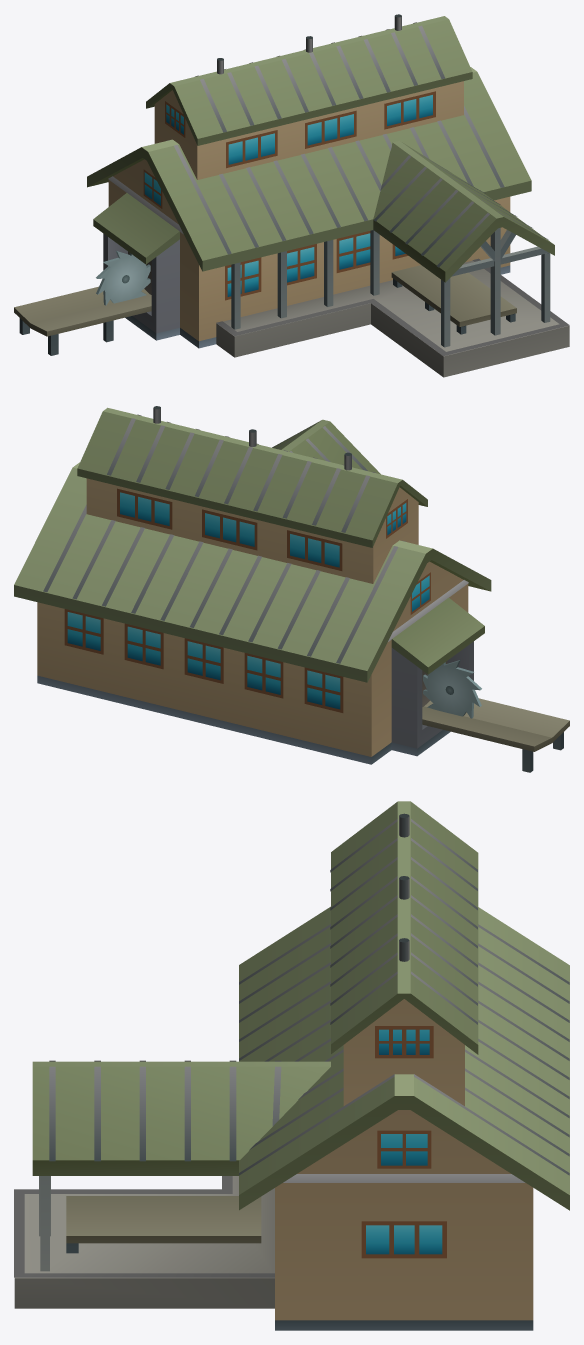
The model's file is Sawmill.fbx.
3 views of the same model, one above another, from view 1: azimuth 30°, elevation 25°; view 2: azimuth 150°, elevation 25°; view 3: azimuth 270°, elevation 25° (orthographic). The views are drawn at different scales.
Parts seen in each view (by area): view 1: Sawmill; view 2: Sawmill; view 3: Sawmill.
Boxes of the visible parts, bbox=[...] form: Sawmill: bbox=[14, 14, 569, 377]; Sawmill: bbox=[14, 406, 569, 772]; Sawmill: bbox=[14, 801, 569, 1330].
Bounding box in the file's own units: 1944 × 1005 × 1474.
